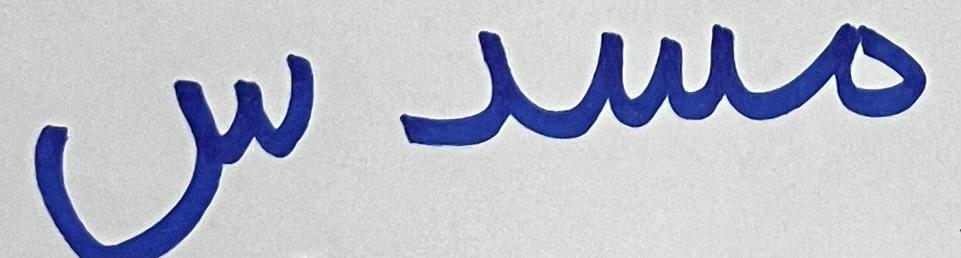character: (15, 28, 321, 257), (550, 23, 746, 145), (757, 4, 932, 133), (386, 29, 540, 149)
